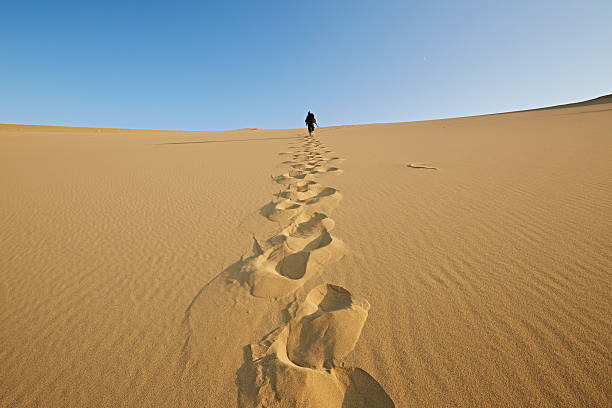human_foot_print: (183, 141, 392, 406), (183, 173, 343, 369), (236, 284, 393, 407), (230, 212, 344, 297), (260, 184, 341, 226)
